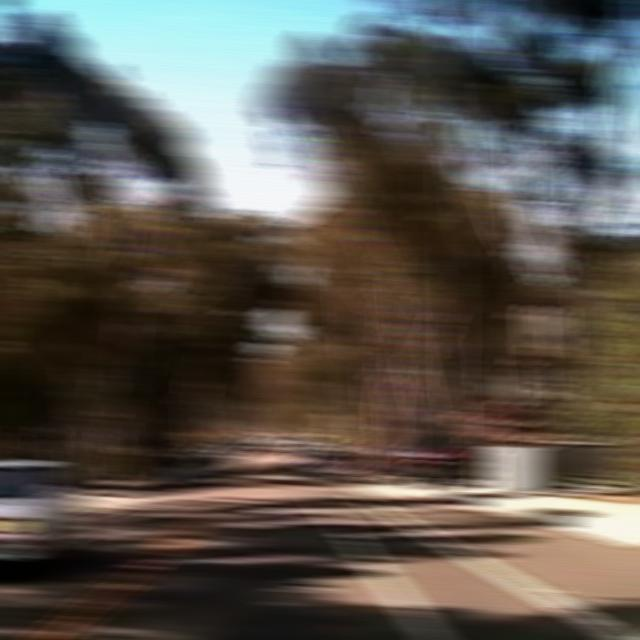stop: (476, 393, 509, 420)
